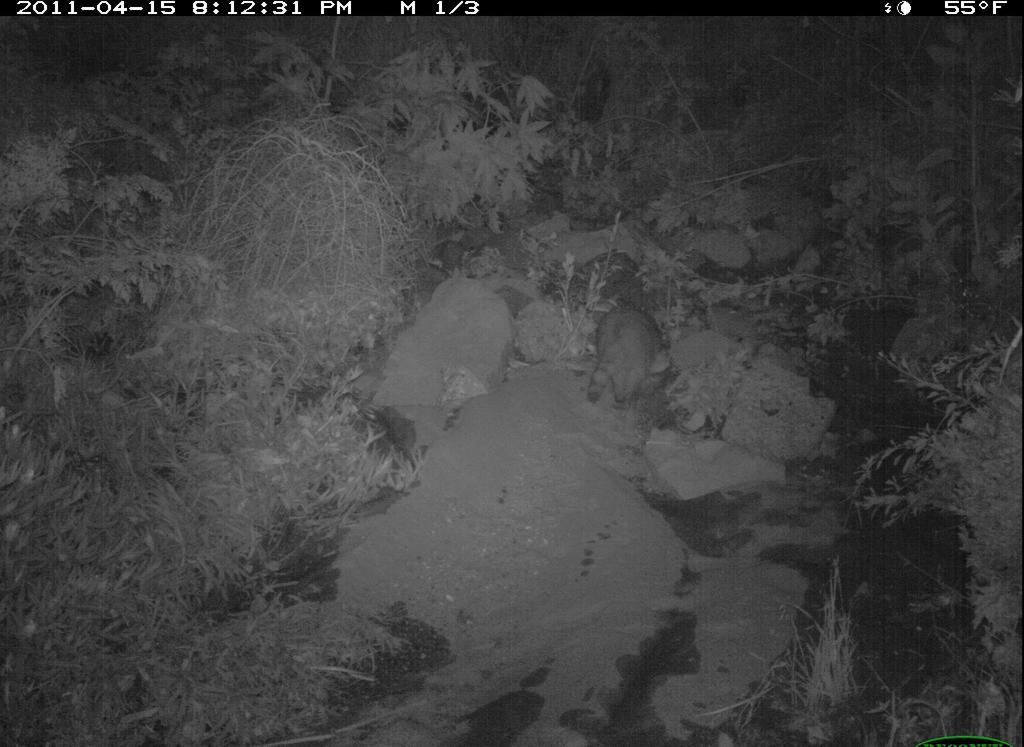raccoon: (573, 296, 680, 424)
